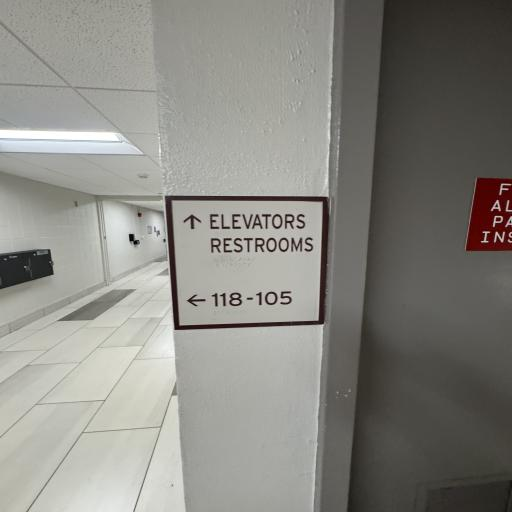door: (349, 0, 512, 512)
sign: (164, 191, 324, 333)
